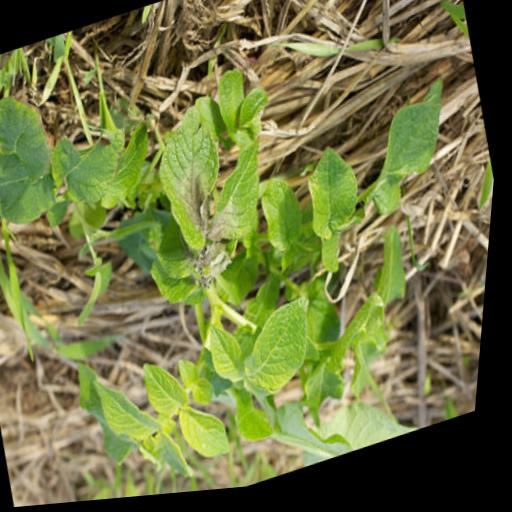Late Blight: (136, 92, 252, 274), (191, 136, 288, 259)
